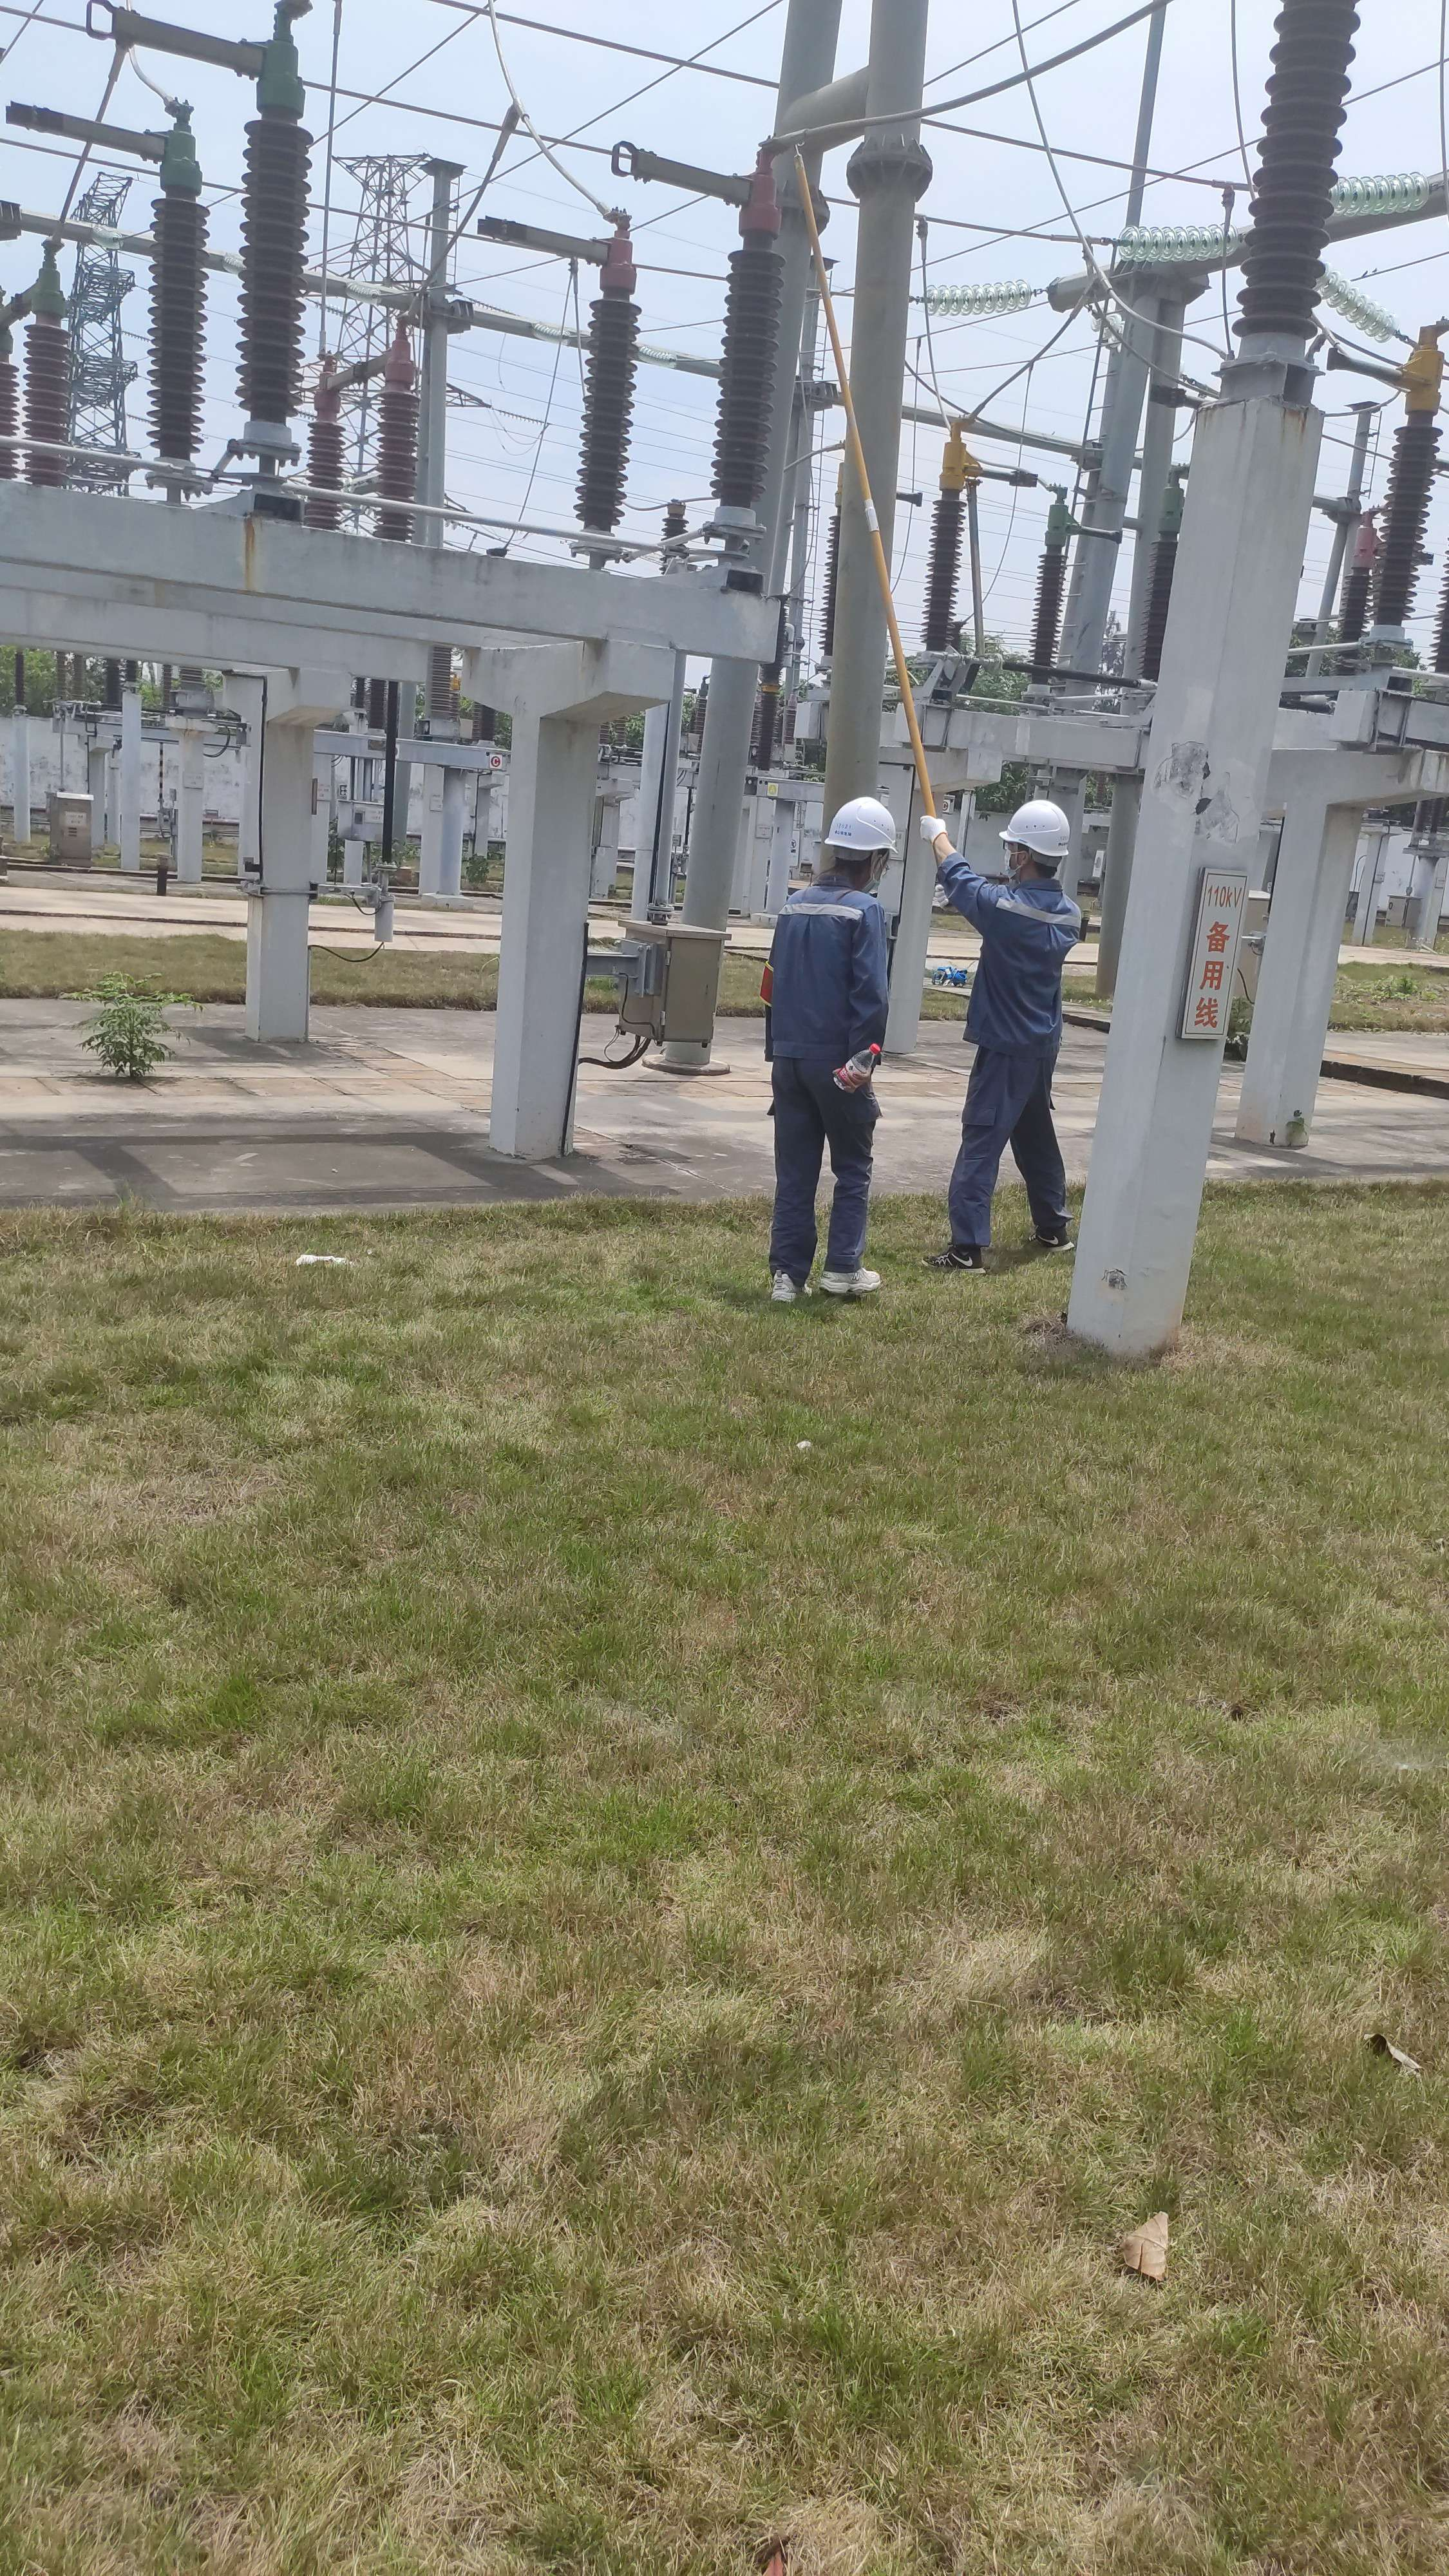downsuit: (770, 1072, 883, 1277), (950, 1056, 1070, 1244)
upsuit: (950, 867, 1083, 1047), (770, 890, 890, 1060)
wrongtop: (924, 817, 968, 876)
